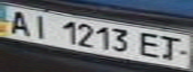1: (54, 17, 78, 45), (93, 24, 112, 52)
2: (72, 20, 96, 50)
3: (112, 26, 136, 54)
A: (3, 7, 36, 36)
E: (136, 30, 166, 60)
I: (27, 11, 57, 40)
T: (154, 34, 187, 62)
